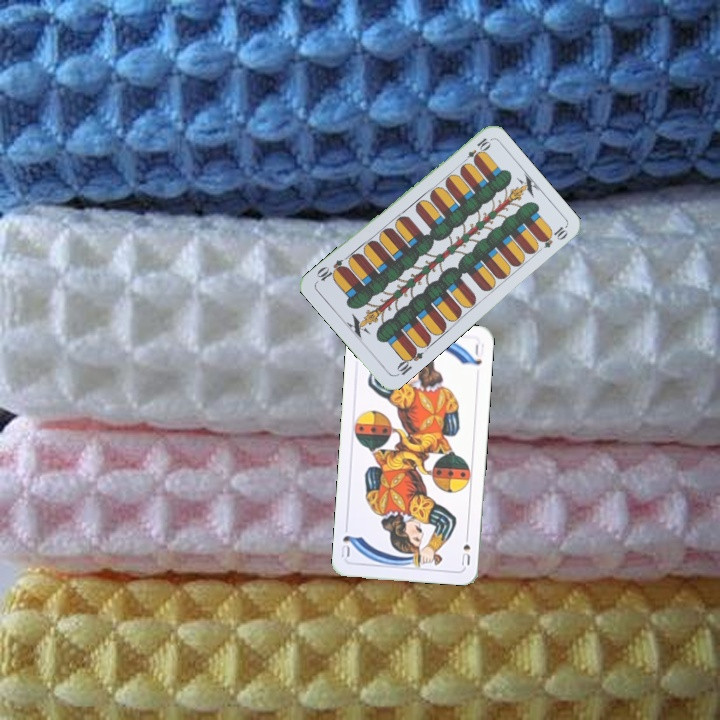E10: (392, 344, 426, 379), (458, 134, 493, 167)
SU: (457, 529, 473, 568)
